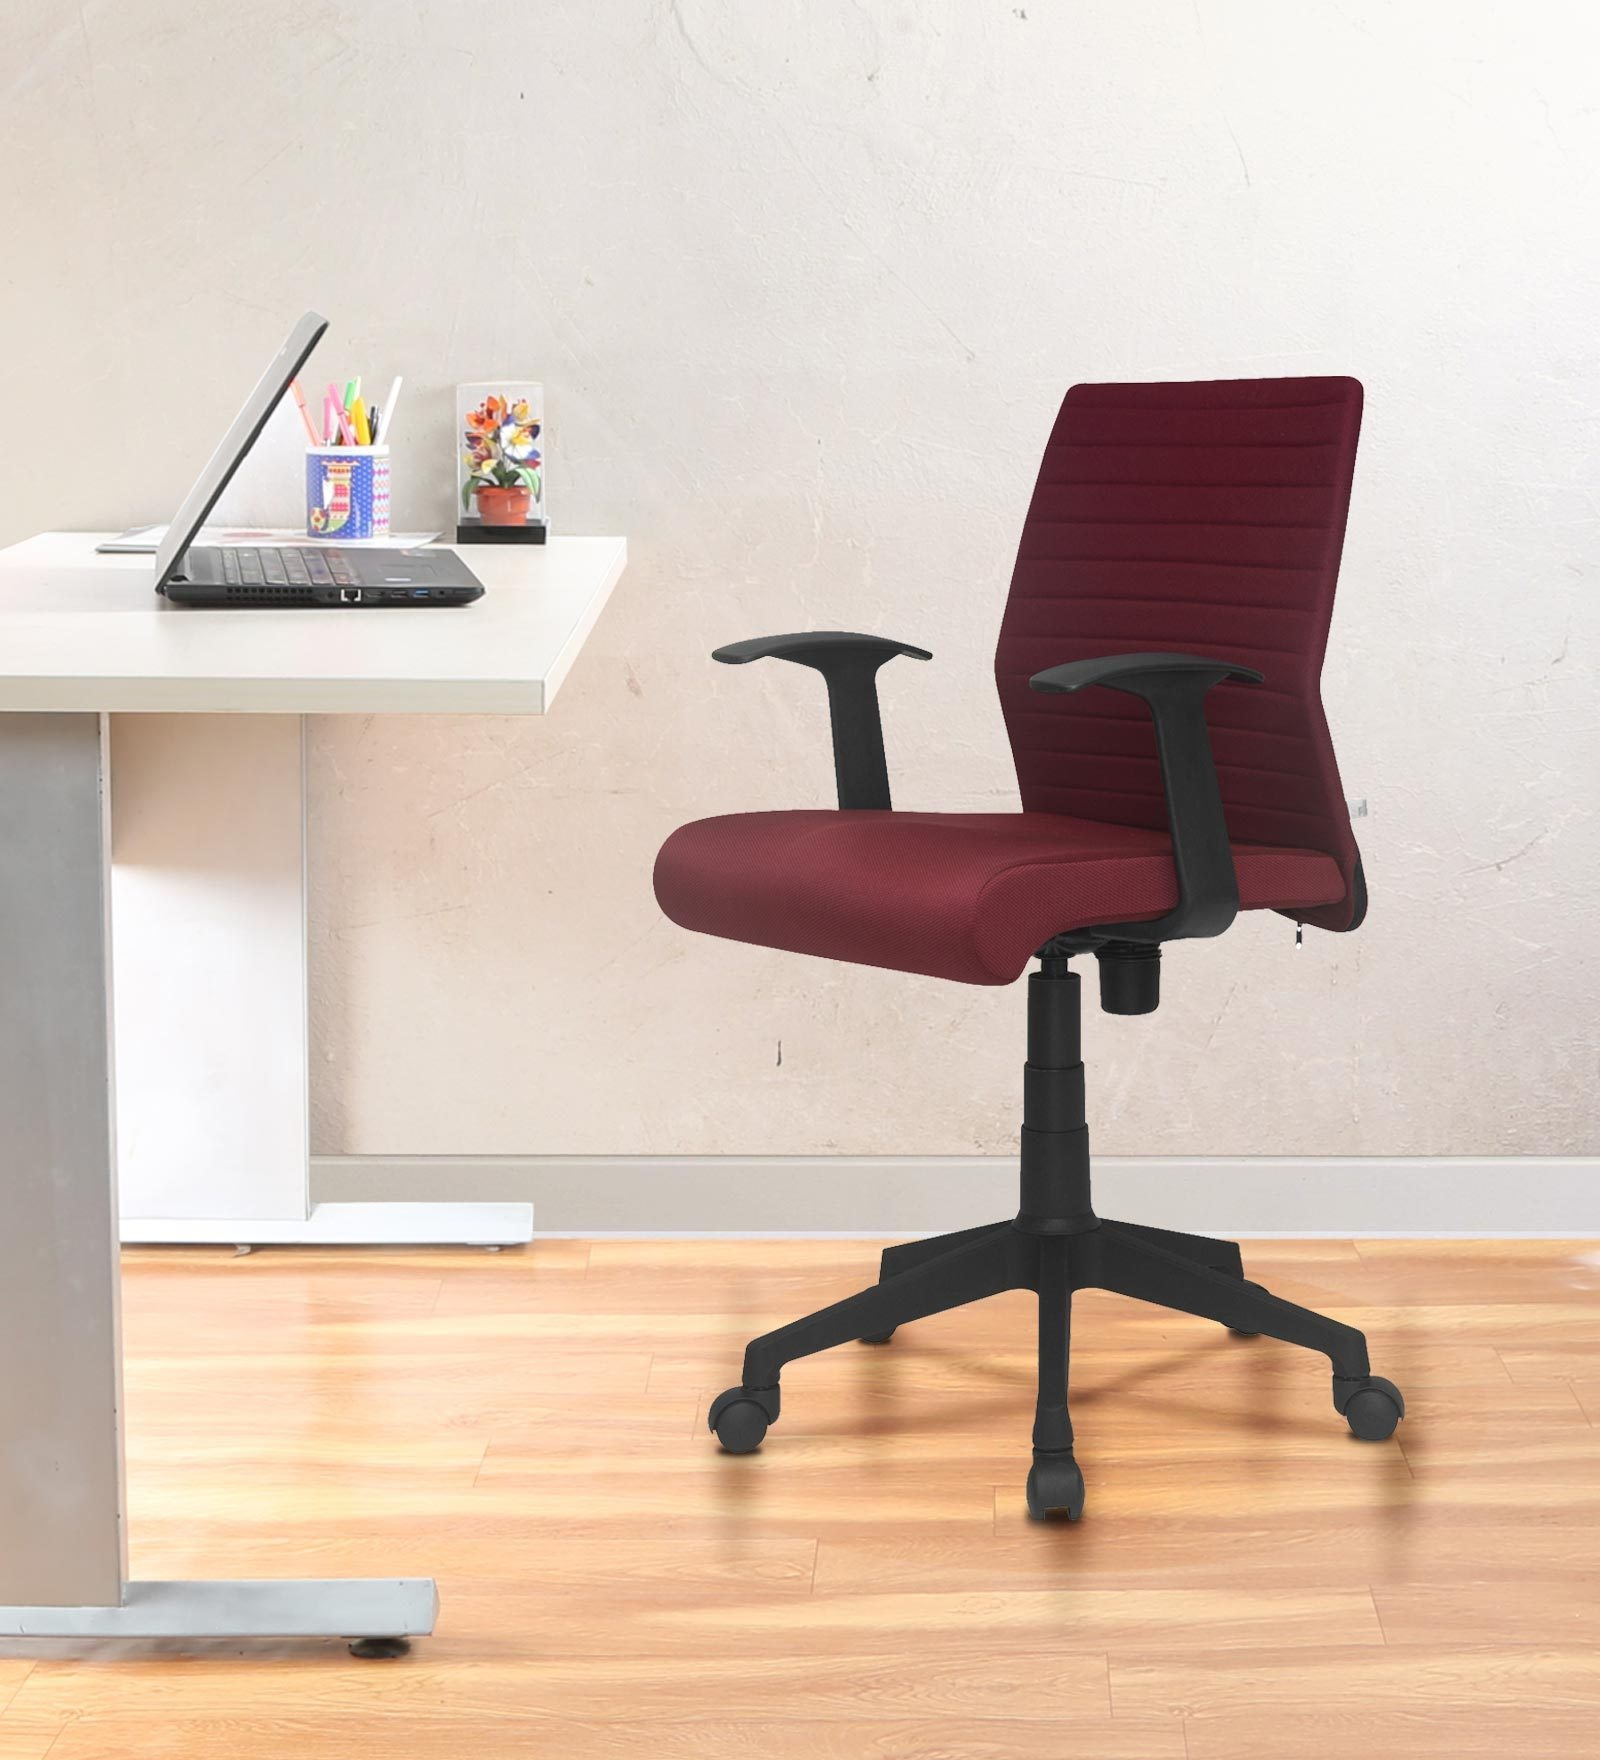Thames Low Back Ergonomic Chair in Maroon Colour by Nilkamal: (611, 156, 1444, 1648)
